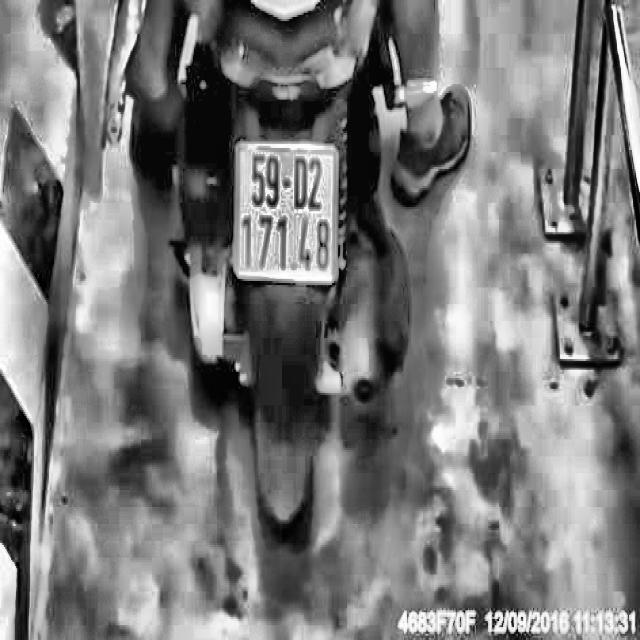plate: (228, 133, 344, 291)
